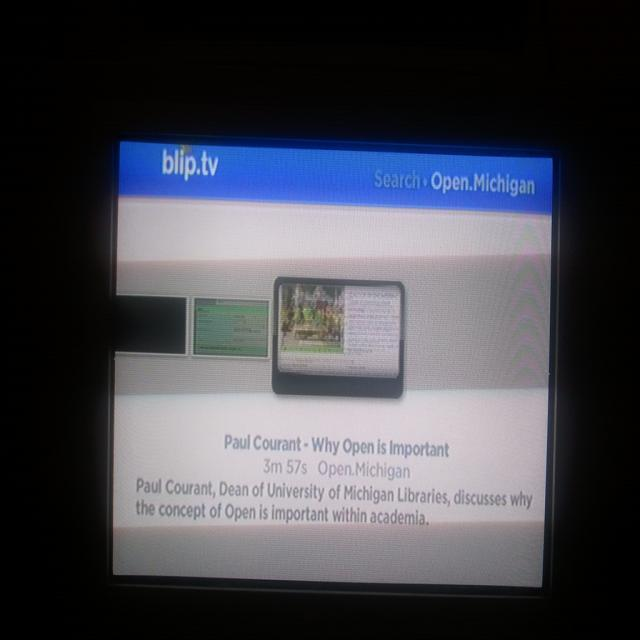others: (92, 121, 560, 608)
